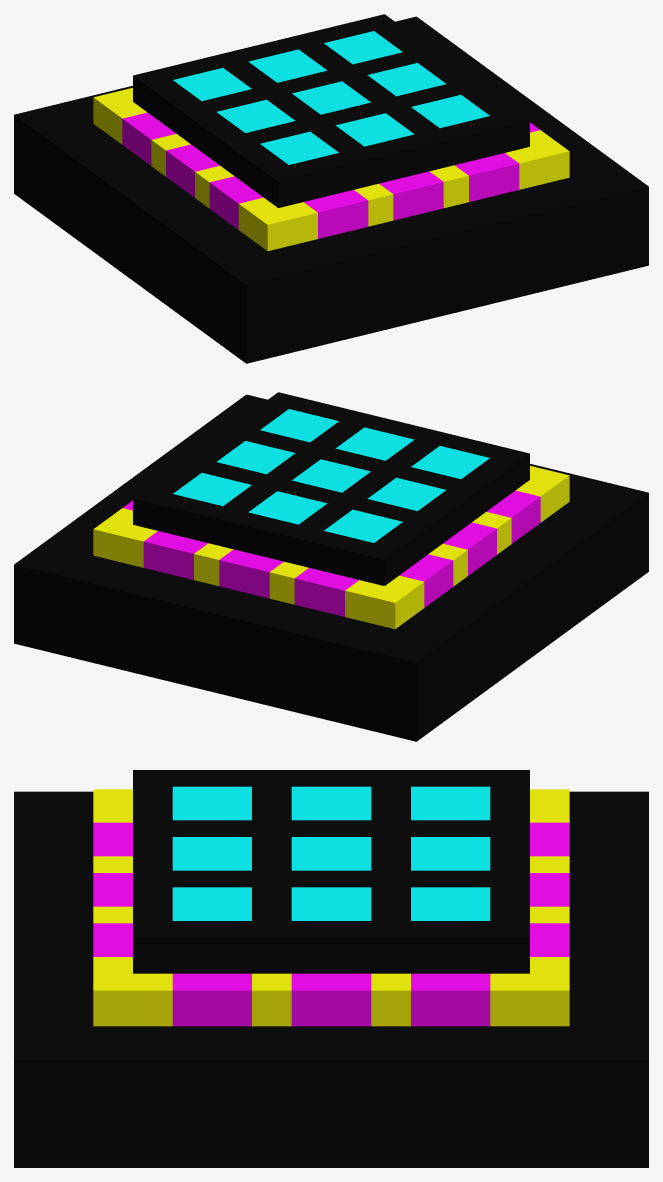
The model's file is tower.obj.
3 views of the same model, one above another, from view 1: azimuth 30°, elevation 25°; view 2: azimuth 150°, elevation 25°; view 3: azimuth 270°, elevation 25° (orthographic). The views are drawn at different scales.
Visible parts, largest first — view 1: tower; view 2: tower; view 3: tower.
Boxes of the visible parts, x1=… form: tower: x1=14, y1=14, x2=648, y2=363; tower: x1=14, y1=392, x2=648, y2=741; tower: x1=14, y1=770, x2=648, y2=1167.
Bounding box in the file's own units: 16 × 5 × 16.
1 material, 1 textured.
